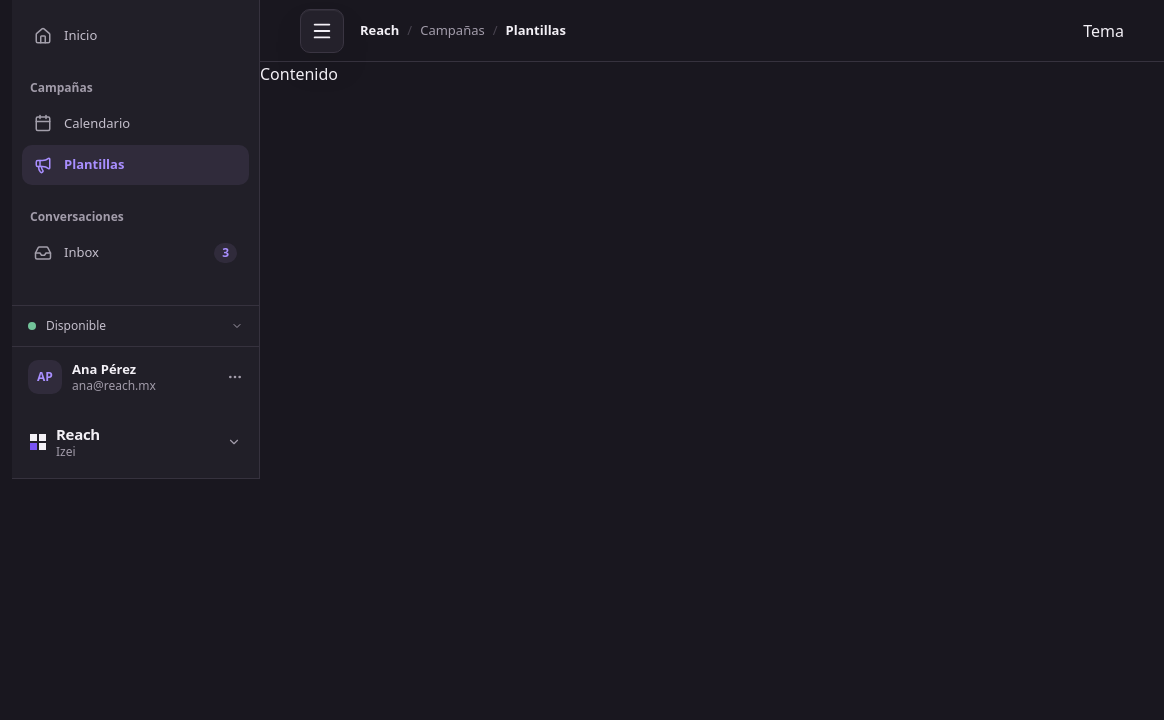
Test: AppShellRail › las filas de organización, presencia y usuario abren su Menu
Click the button "Disponible": (136, 326) [12, 306, 259, 346]
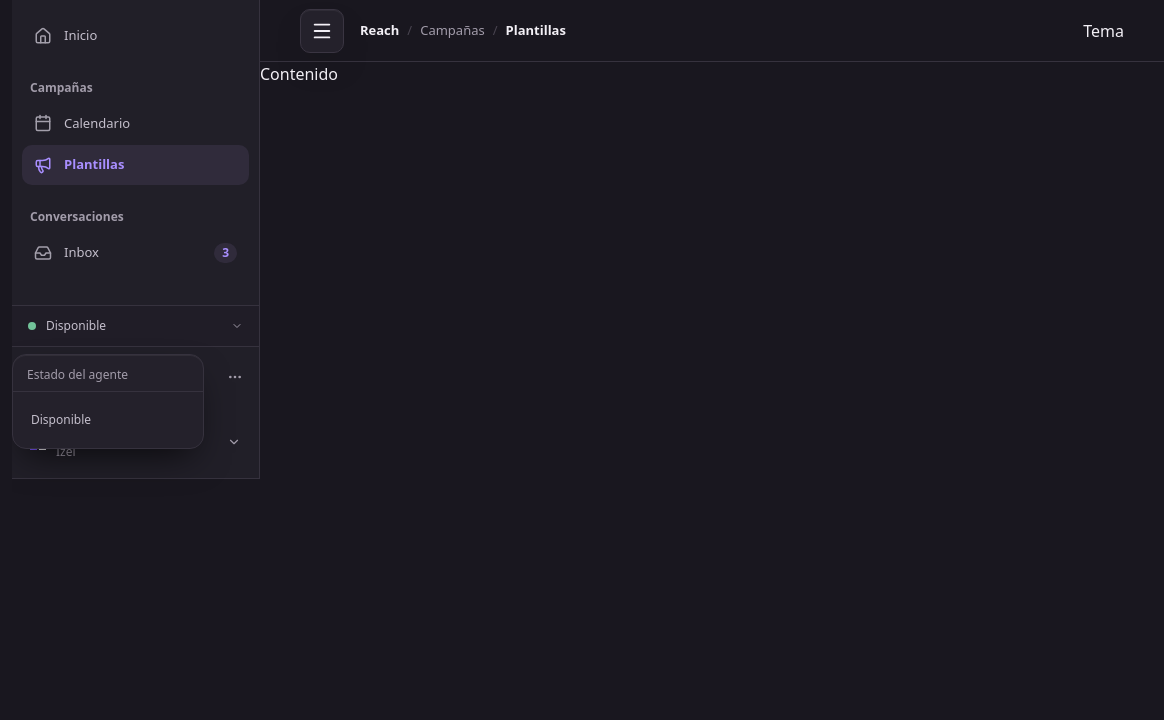
Result: the menu "Estado del agente" is shown at [12, 354, 204, 449]
Press Escape
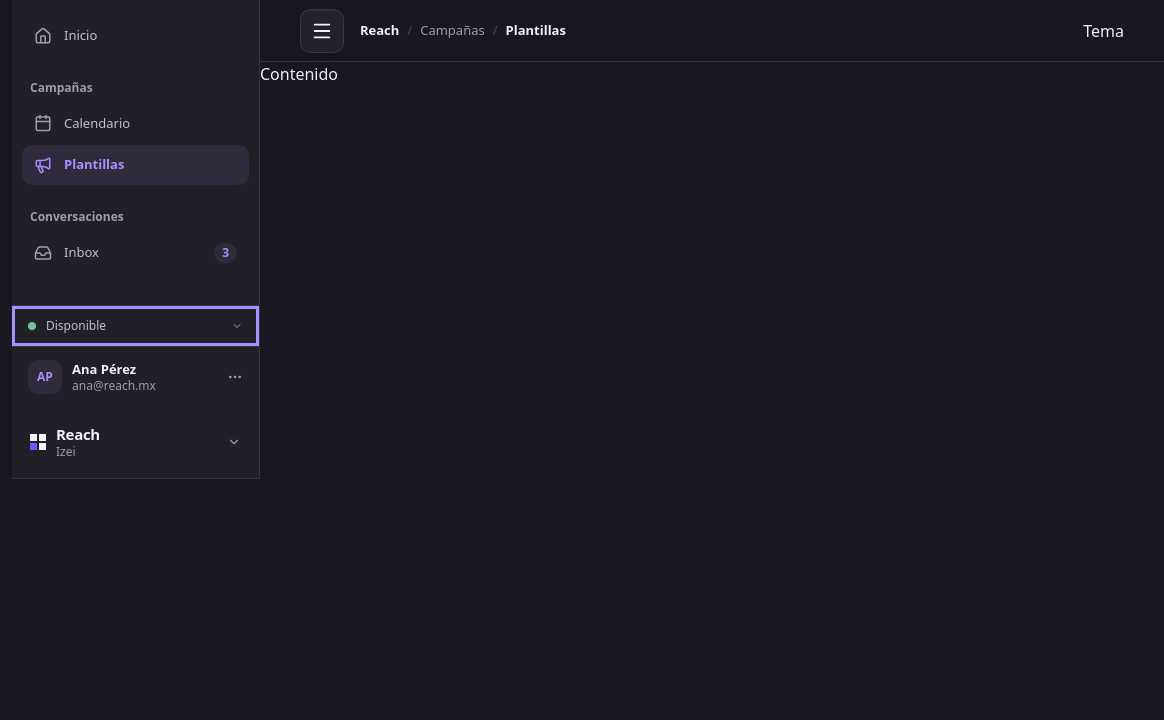
Click the button "AP Ana Pérez ana@reach.mx": (136, 376) [12, 346, 259, 407]
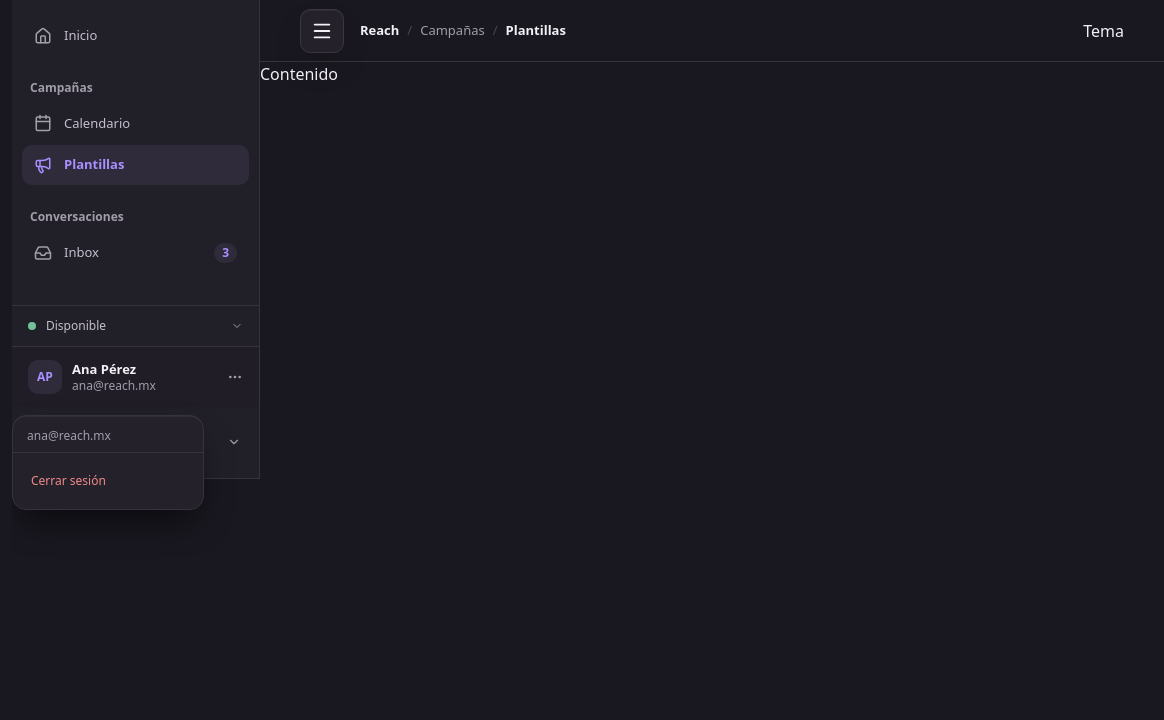
Result: the menu item "Cerrar sesión" is shown at [31, 472, 106, 489]
Press Escape
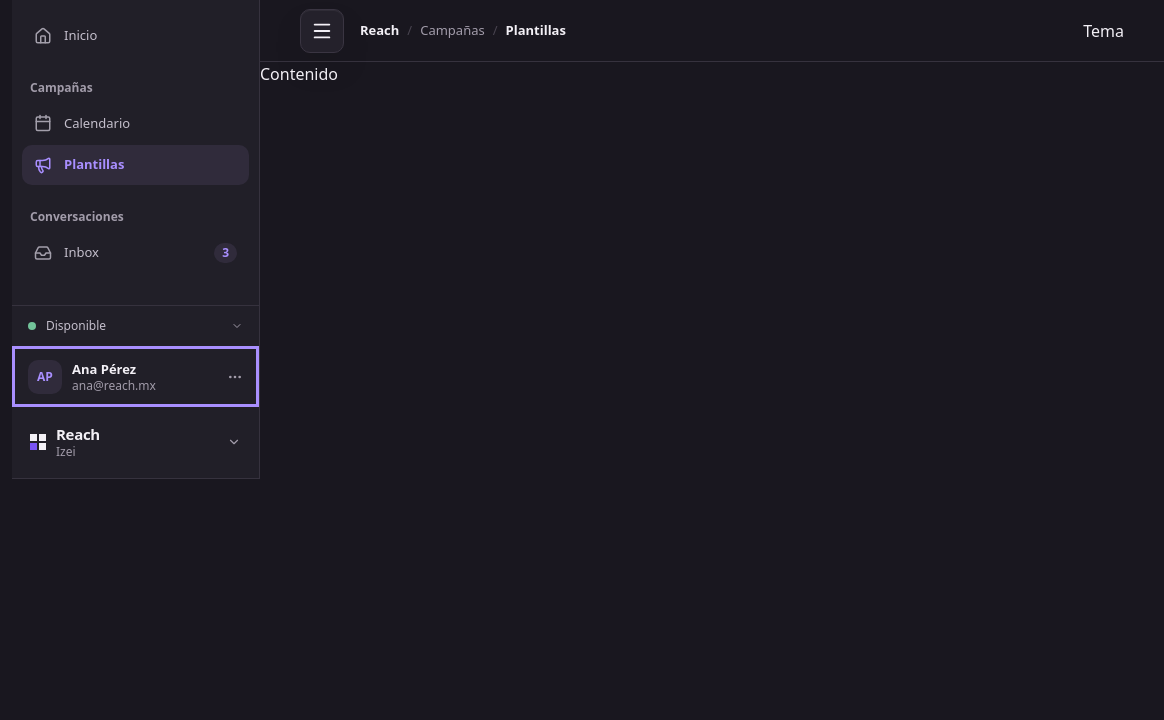
Click the button "Reach Izei": (136, 443) [12, 407, 259, 479]
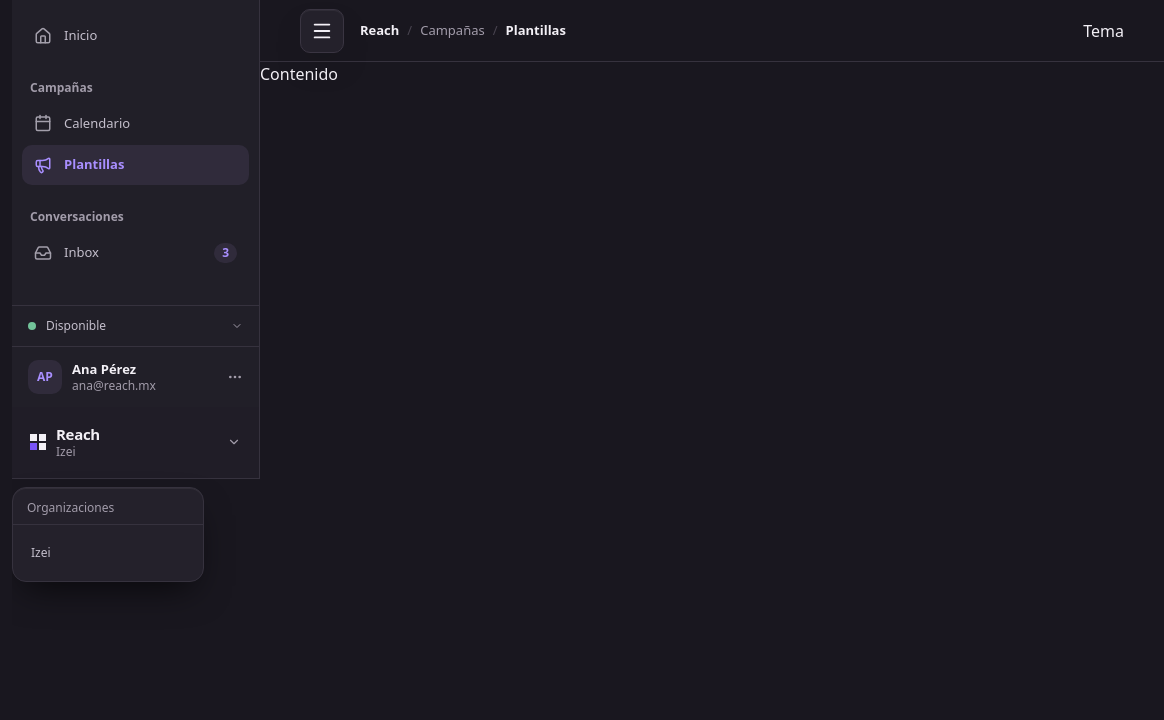
Result: the menu "Organizaciones" is shown at [12, 487, 204, 582]
